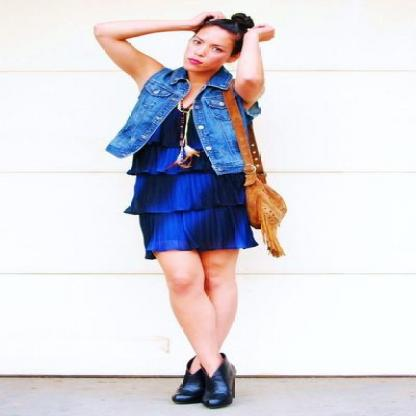bag: (223, 79, 286, 257)
dress: (124, 104, 259, 258)
jacket: (105, 67, 259, 174)
shoe: (172, 358, 261, 408)
